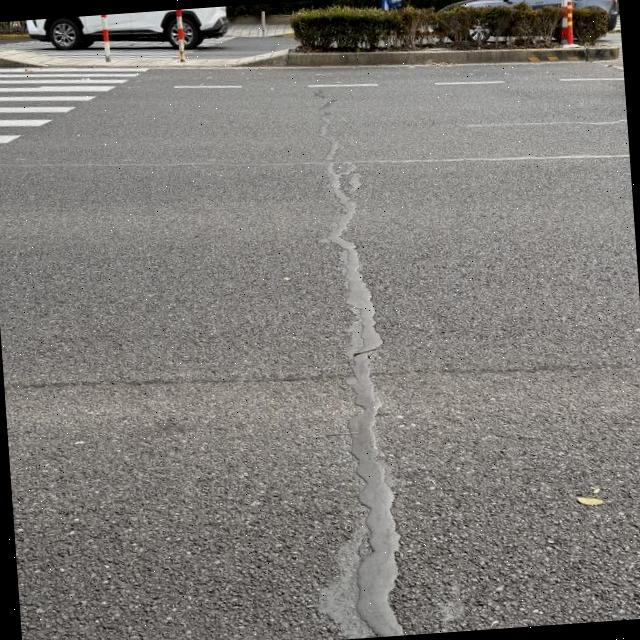curb: (238, 44, 619, 65), (0, 57, 41, 66)
